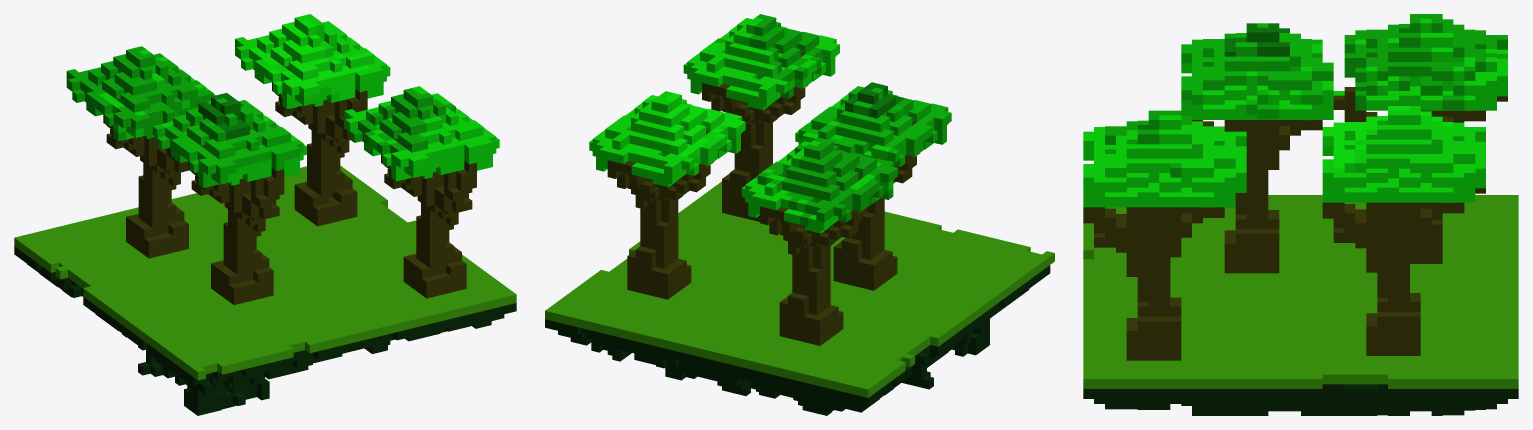
Rendered from trees2.obj.
3 renders of one model, left to right at view 1: azimuth 30°, elevation 25°; view 2: azimuth 150°, elevation 25°; view 3: azimuth 270°, elevation 25°, orthographic. The views are drawn at different scales.
Parts seen in each view (by area): view 1: trees2; view 2: trees2; view 3: trees2.
Part boxes in pixels (box(x1,y1,x2,y2)): trees2: box(14, 14, 516, 415); trees2: box(545, 14, 1054, 415); trees2: box(1083, 14, 1518, 415).
Size of the model in its own units: 4 by 3.4 by 4.
Materials: 1 (1 with a texture image).
